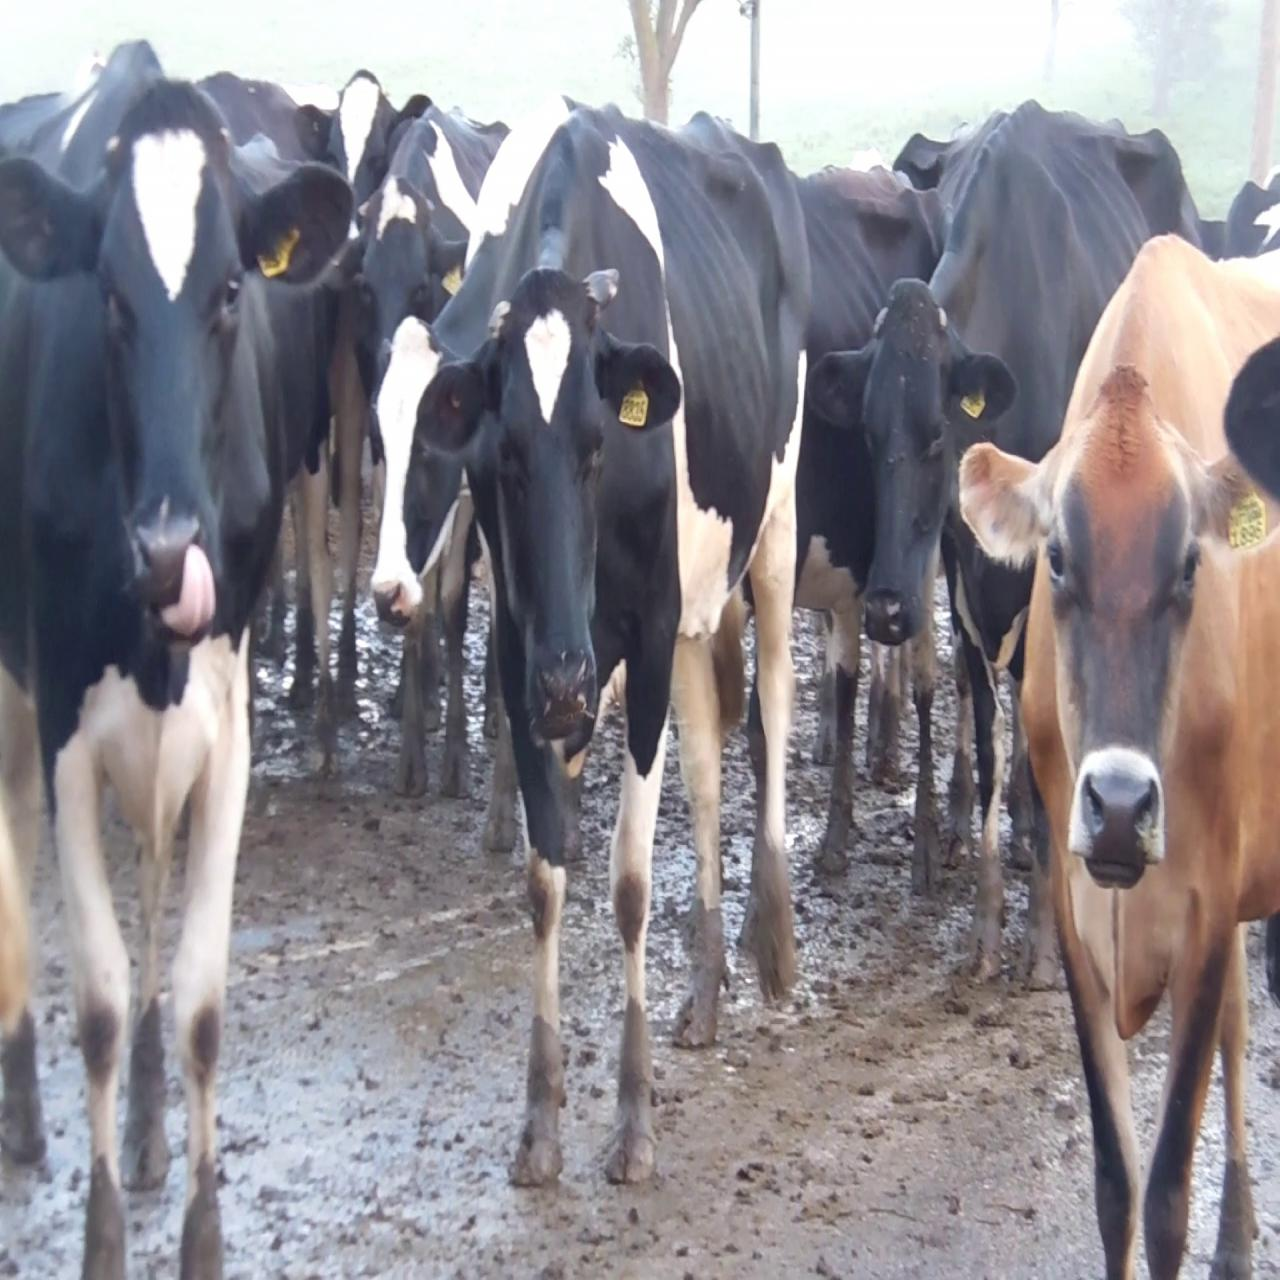Face: (95, 113, 238, 629), (1054, 418, 1197, 885), (494, 308, 605, 729), (860, 318, 947, 636), (372, 312, 445, 624)
